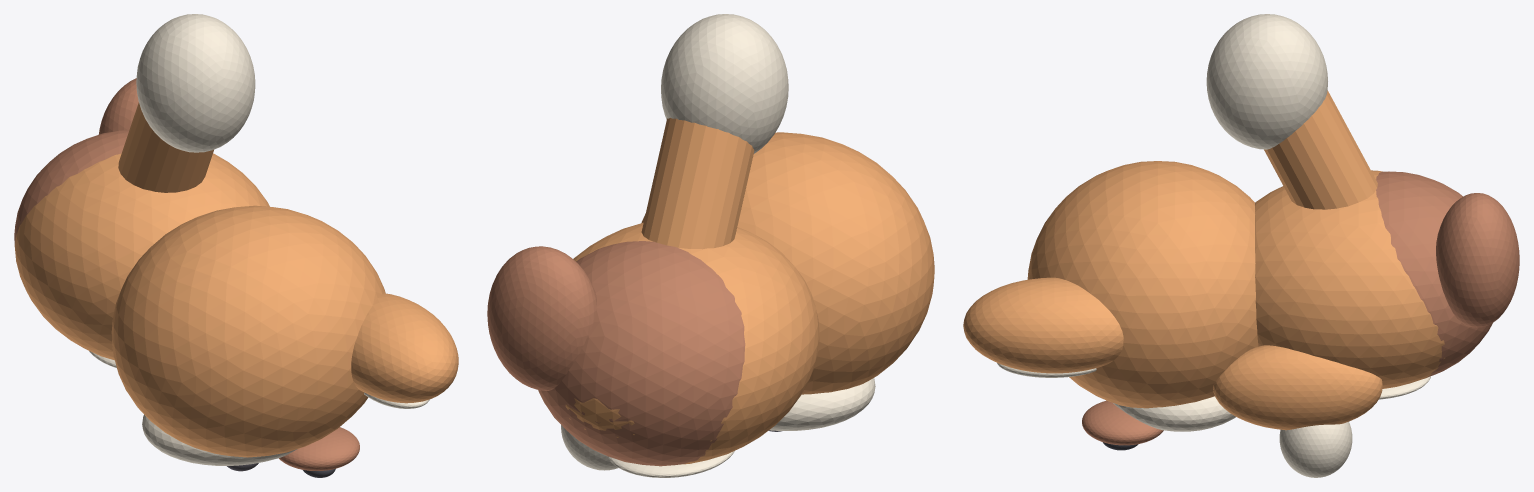
Rendered from peanut_v1.glb.
The picture shows the model from 3 angles, left to right: view 1: azimuth 30°, elevation 25°; view 2: azimuth 150°, elevation 25°; view 3: azimuth 270°, elevation 25°; orthographic projection. The views are drawn at different scales.
Parts seen in each view (by area): view 1: Peanut_head, Peanut_body, Tail_tip, Pointed_ear, Tail_base, Orange_racing_suit, Dark_eye_patch, Cream_face, Foot; view 2: Peanut_head, Orange_racing_suit, Peanut_body, Tail_tip, Foot, Tail_base, Cream_face, Chest_patch, Paw; view 3: Peanut_head, Peanut_body, Tail_tip, Pointed_ear, Arm, Foot, Orange_racing_suit, Tail_base, Paw, Cream_face, Dark_eye_patch.
Part boxes in pixels (left/top/right/bottom): Peanut_head: left=111, top=205, right=385, bottom=457; Peanut_body: left=14, top=153, right=269, bottom=360; Tail_tip: left=136, top=14, right=255, bottom=152; Pointed_ear: left=351, top=293, right=458, bottom=403; Tail_base: left=118, top=102, right=213, bottom=192; Orange_racing_suit: left=14, top=130, right=129, bottom=244; Dark_eye_patch: left=279, top=427, right=359, bottom=470; Cream_face: left=142, top=414, right=297, bottom=465; Foot: left=98, top=78, right=138, bottom=134; Peanut_head: left=641, top=132, right=934, bottom=394; Orange_racing_suit: left=538, top=241, right=745, bottom=466; Peanut_body: left=565, top=222, right=819, bottom=464; Tail_tip: left=661, top=14, right=788, bottom=153; Foot: left=487, top=246, right=596, bottom=390; Tail_base: left=641, top=118, right=754, bottom=249; Cream_face: left=769, top=378, right=875, bottom=430; Chest_patch: left=607, top=451, right=734, bottom=477; Paw: left=561, top=425, right=618, bottom=470; Peanut_head: left=1027, top=161, right=1258, bottom=408; Peanut_body: left=1255, top=170, right=1492, bottom=388; Tail_tip: left=1206, top=14, right=1327, bottom=149; Pointed_ear: left=963, top=277, right=1123, bottom=373; Arm: left=1213, top=345, right=1382, bottom=430; Foot: left=1436, top=193, right=1519, bottom=327; Orange_racing_suit: left=1376, top=171, right=1492, bottom=377; Tail_base: left=1264, top=90, right=1377, bottom=209; Paw: left=1279, top=421, right=1352, bottom=477; Cream_face: left=1113, top=396, right=1235, bottom=431; Dark_eye_patch: left=1082, top=400, right=1163, bottom=445.
Bounding box in the file's own units: 0.97 × 1.5 × 1.83.
